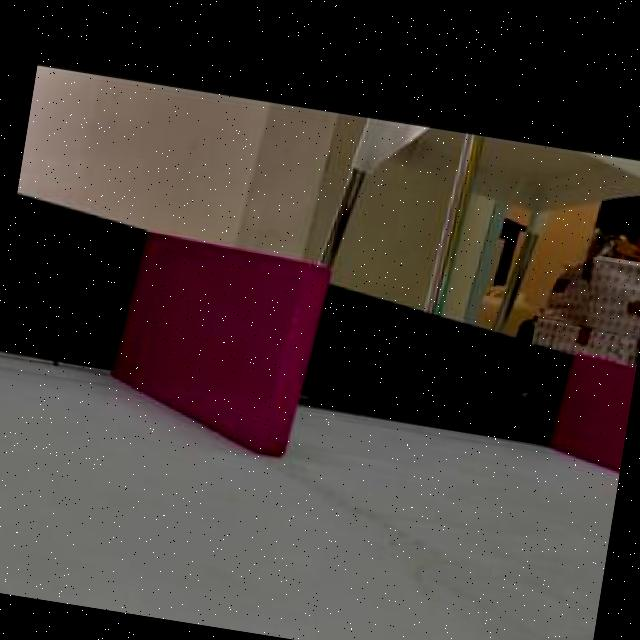xparking: (115, 238, 318, 445), (557, 356, 637, 463)
